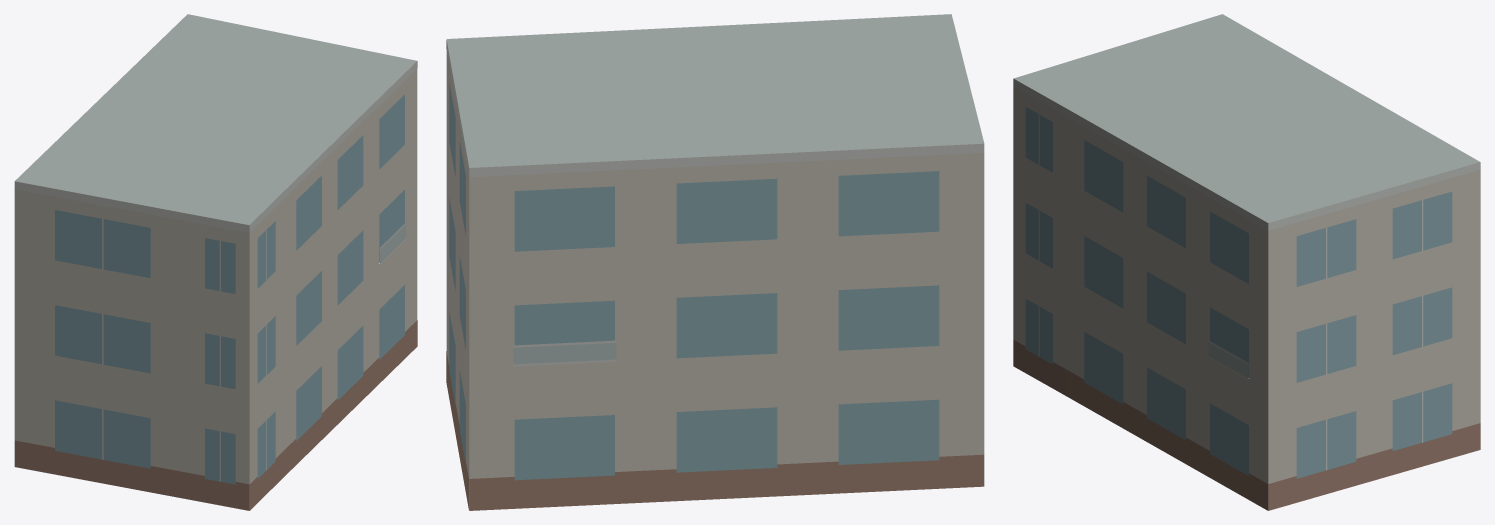
Rendered from survey-upis-32776647.glb.
The picture shows the model from 3 angles, left to right: view 1: azimuth 30°, elevation 25°; view 2: azimuth 150°, elevation 25°; view 3: azimuth 270°, elevation 25°; orthographic projection. The views are drawn at different scales.
Parts seen in each view (by area): view 1: survey-upis-32776647.tmp; view 2: survey-upis-32776647.tmp; view 3: survey-upis-32776647.tmp.
Part boxes in pixels (x1,y1,x2,y2): survey-upis-32776647.tmp: (14,14,417,510); survey-upis-32776647.tmp: (446,14,984,510); survey-upis-32776647.tmp: (1013,14,1480,510).
Size of the model in its own units: 14.27 by 9.15 by 13.47.
